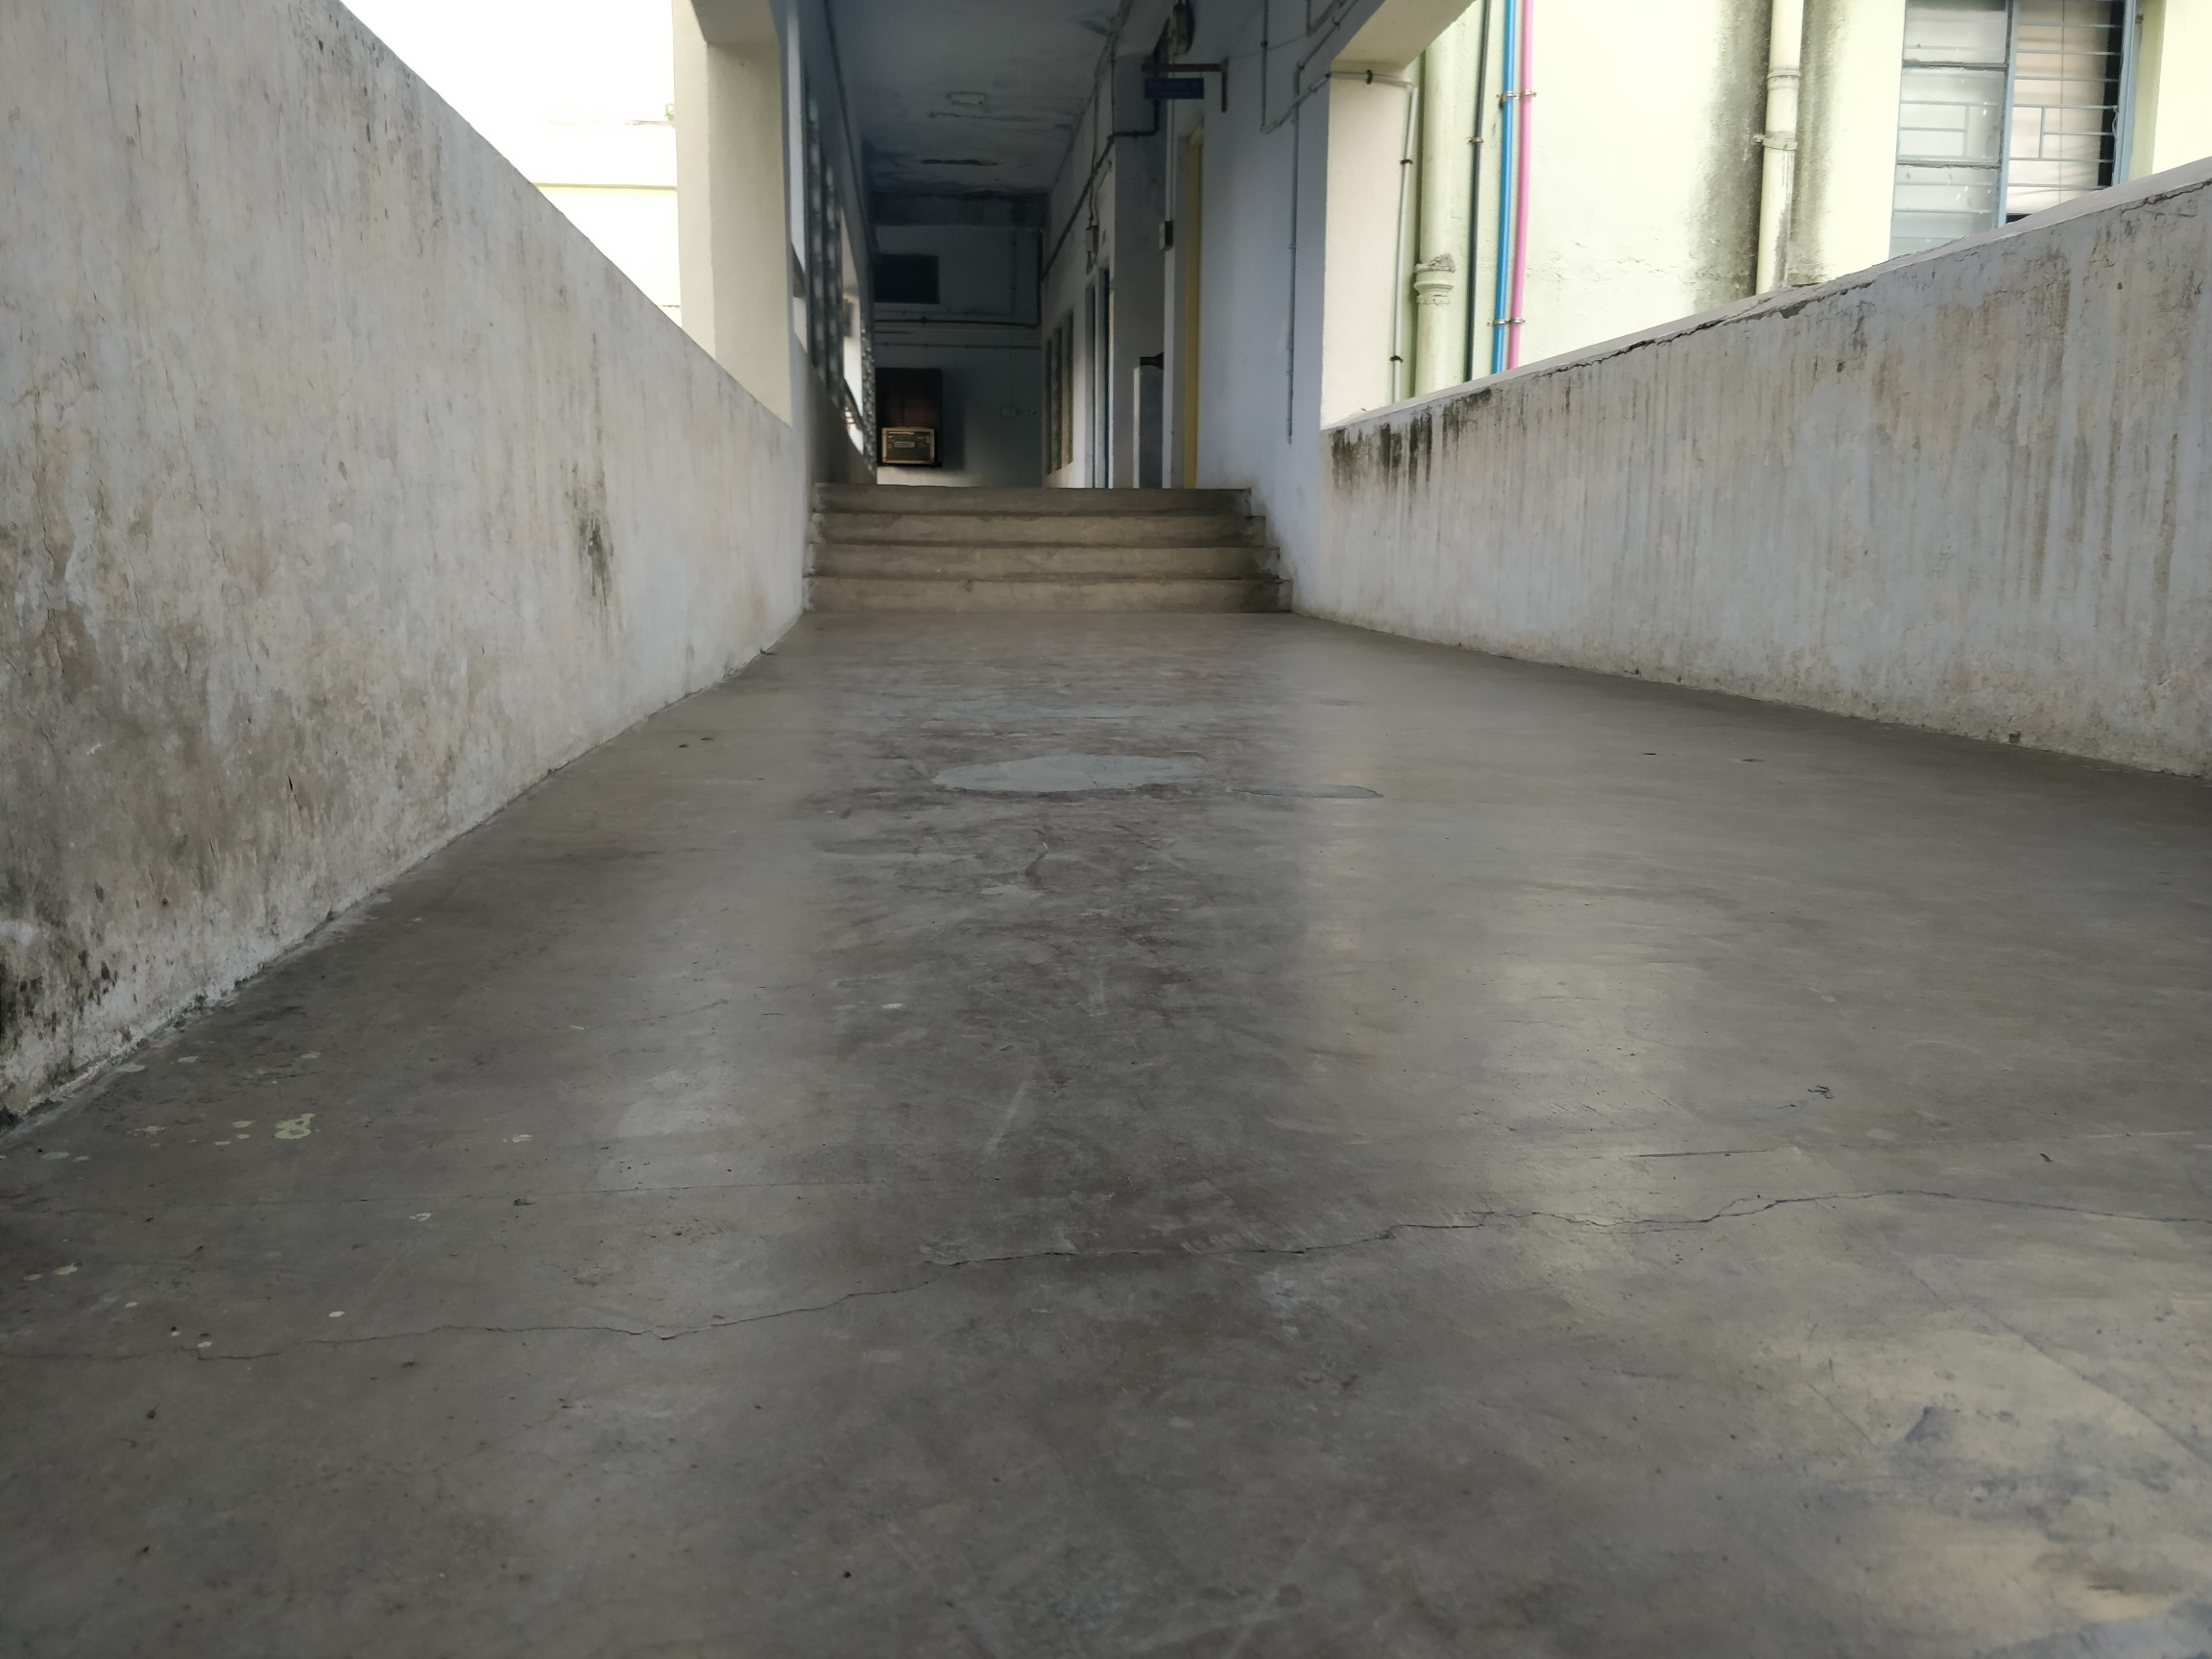stairs_up: (803, 472, 1301, 627)
